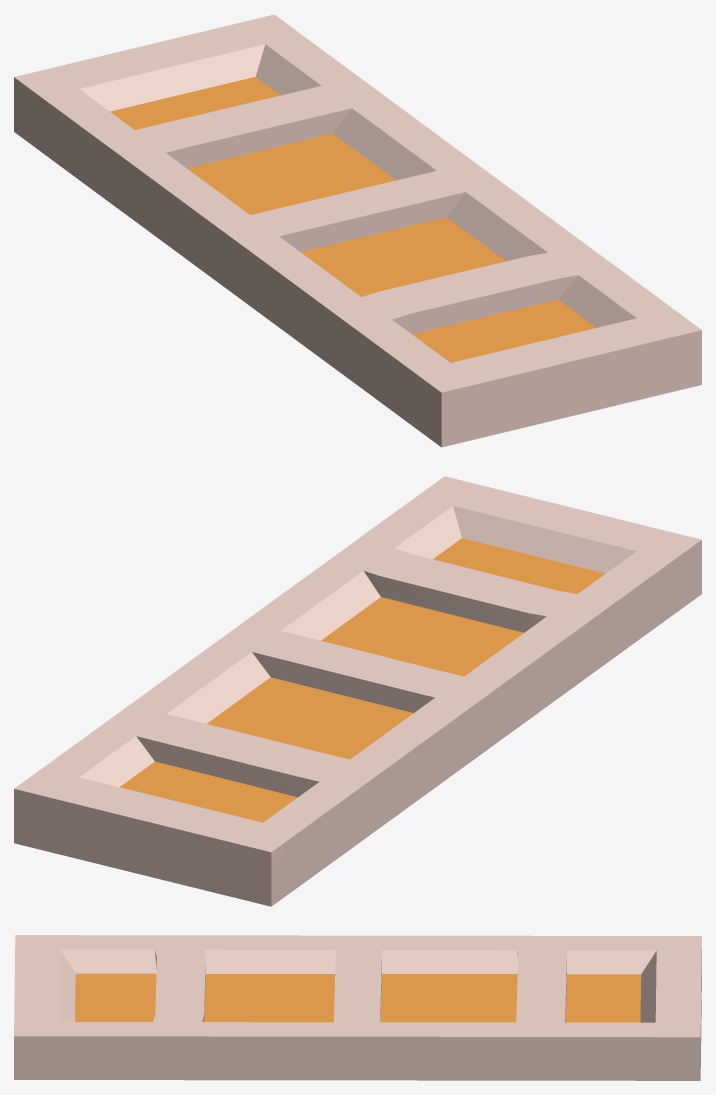
File: Drainage(2).fbx
The picture shows the model from 3 angles, top to bottom: view 1: azimuth 30°, elevation 25°; view 2: azimuth 150°, elevation 25°; view 3: azimuth 270°, elevation 25°; orthographic projection. The views are drawn at different scales.
Visible parts, largest first — view 1: plaqueEgout2__1_.030; view 2: plaqueEgout2__1_.030; view 3: plaqueEgout2__1_.030.
Boxes of the visible parts, left/top/right/bottom form: plaqueEgout2__1_.030: left=14, top=14, right=701, bottom=447; plaqueEgout2__1_.030: left=14, top=476, right=701, bottom=906; plaqueEgout2__1_.030: left=14, top=935, right=701, bottom=1080.
Bounding box in the file's own units: 38.54 × 7.7 × 110.
